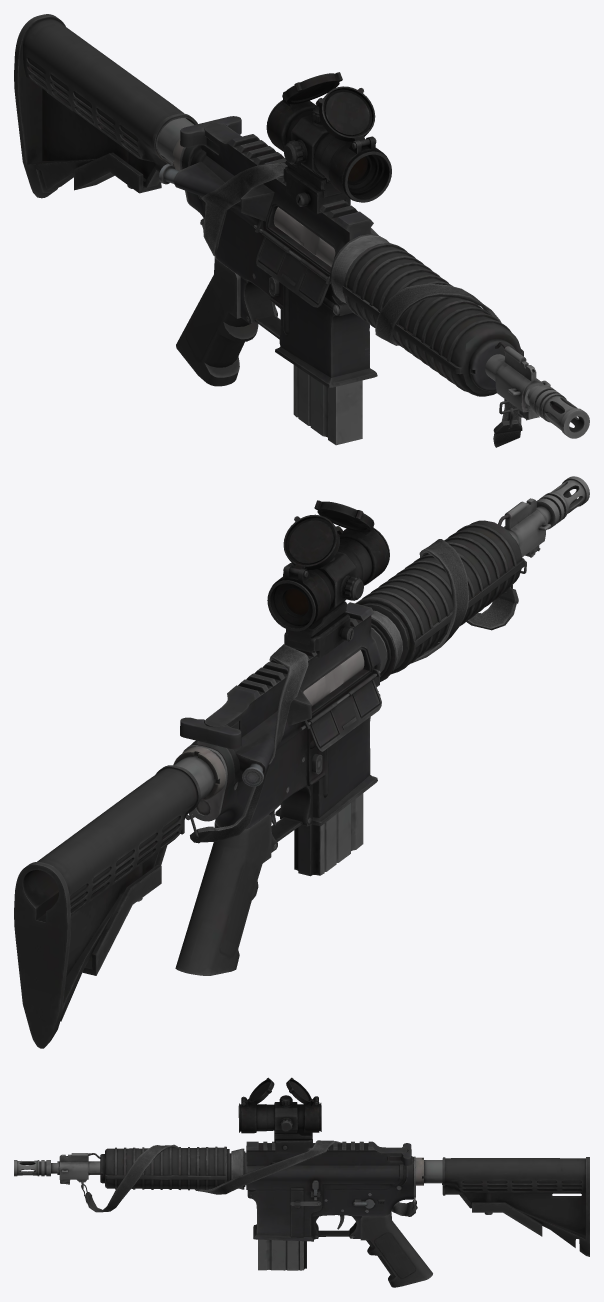
The model's file is carbine.glb.
3 views of the same model, one above another, from view 1: azimuth 30°, elevation 25°; view 2: azimuth 150°, elevation 25°; view 3: azimuth 270°, elevation 25° (orthographic). The views are drawn at different scales.
Visible parts, largest first — view 1: Receiver_m4_0, Stock_m4_0, Scope_scope_0, Sling_sling_0, Magazine_m4_0, BoltCarrier_m4_0, ChargingHandle_m4_0; view 2: Receiver_m4_0, Stock_m4_0, Scope_scope_0, Sling_sling_0, Magazine_m4_0, ChargingHandle_m4_0, BoltCarrier_m4_0; view 3: Receiver_m4_0, Stock_m4_0, Scope_scope_0, Sling_sling_0, Magazine_m4_0.
Boxes of the visible parts, x1=… form: Receiver_m4_0: x1=157, y1=118, x2=589, y2=438; Stock_m4_0: x1=14, y1=14, x2=197, y2=198; Scope_scope_0: x1=266, y1=72, x2=391, y2=214; Sling_sling_0: x1=200, y1=163, x2=522, y2=447; Magazine_m4_0: x1=293, y1=365, x2=362, y2=445; BoltCarrier_m4_0: x1=273, y1=207, x2=335, y2=266; ChargingHandle_m4_0: x1=180, y1=116, x2=241, y2=153; Receiver_m4_0: x1=173, y1=476, x2=589, y2=975; Stock_m4_0: x1=14, y1=765, x2=200, y2=1048; Scope_scope_0: x1=267, y1=500, x2=389, y2=658; Sling_sling_0: x1=189, y1=539, x2=526, y2=843; Magazine_m4_0: x1=294, y1=793, x2=363, y2=876; ChargingHandle_m4_0: x1=180, y1=717, x2=241, y2=749; BoltCarrier_m4_0: x1=303, y1=650, x2=364, y2=706; Receiver_m4_0: x1=14, y1=1141, x2=442, y2=1287; Stock_m4_0: x1=442, y1=1157, x2=589, y2=1256; Scope_scope_0: x1=238, y1=1077, x2=321, y2=1153; Sling_sling_0: x1=81, y1=1140, x2=417, y2=1216; Magazine_m4_0: x1=258, y1=1239, x2=306, y2=1270.
Size of the model in its own units: 0.0652 by 0.2612 by 0.6679.
Materials: 3 (3 with a texture image).
